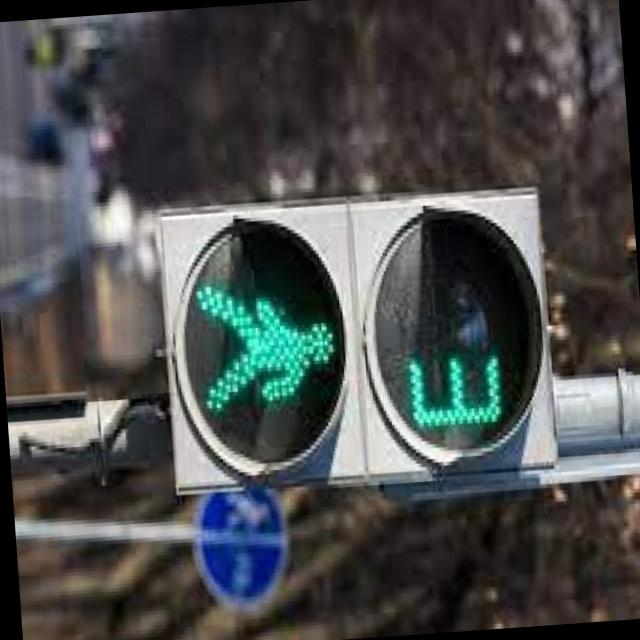green_light: (173, 213, 529, 464)
